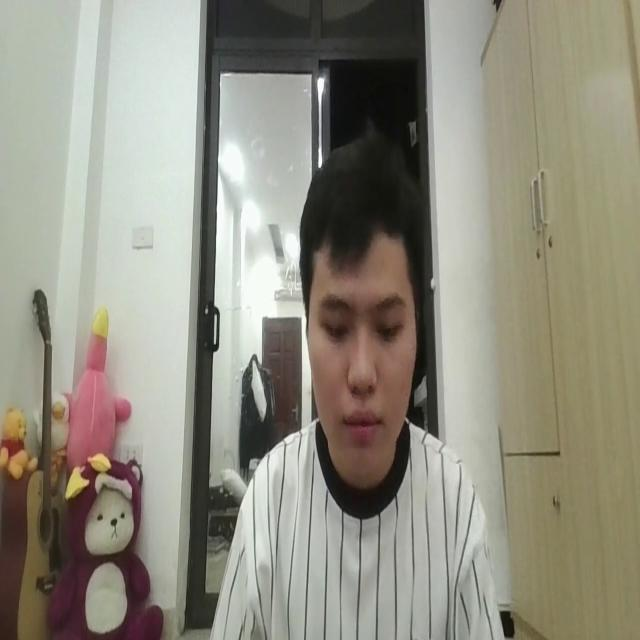student: (209, 121, 508, 640)
